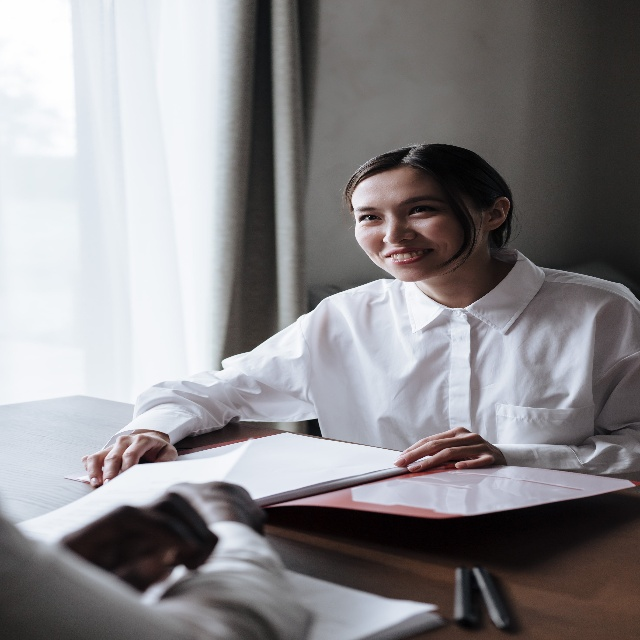Sin_guantes: (393, 425, 505, 479), (80, 432, 177, 486), (174, 478, 266, 534)
